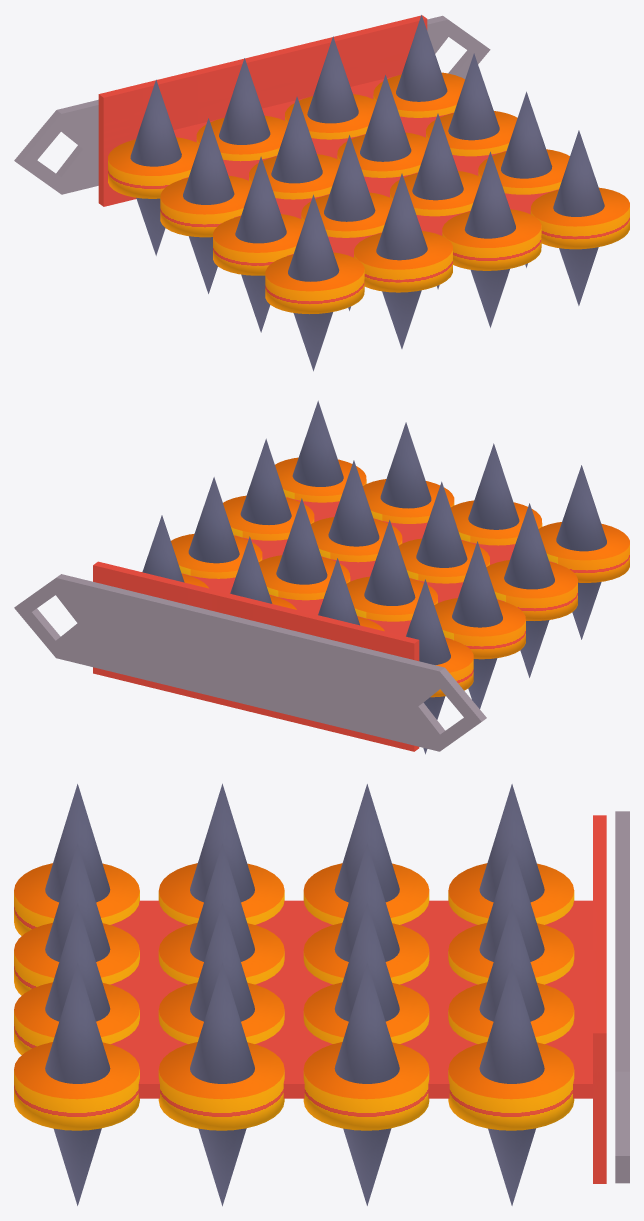
File: spikes.glb
The picture shows the model from 3 angles, top to bottom: view 1: azimuth 30°, elevation 25°; view 2: azimuth 150°, elevation 25°; view 3: azimuth 270°, elevation 25°; orthographic projection. The views are drawn at different scales.
Visible parts, largest first — view 1: Spikes; view 2: Spikes; view 3: Spikes.
Boxes of the visible parts, x1=… form: Spikes: x1=14, y1=15, x2=629, y2=371; Spikes: x1=14, y1=400, x2=629, y2=754; Spikes: x1=14, y1=783, x2=629, y2=1206.
Bounding box in the file's own units: 0.2438 × 0.0876 × 0.2.
1 material, 1 textured.
